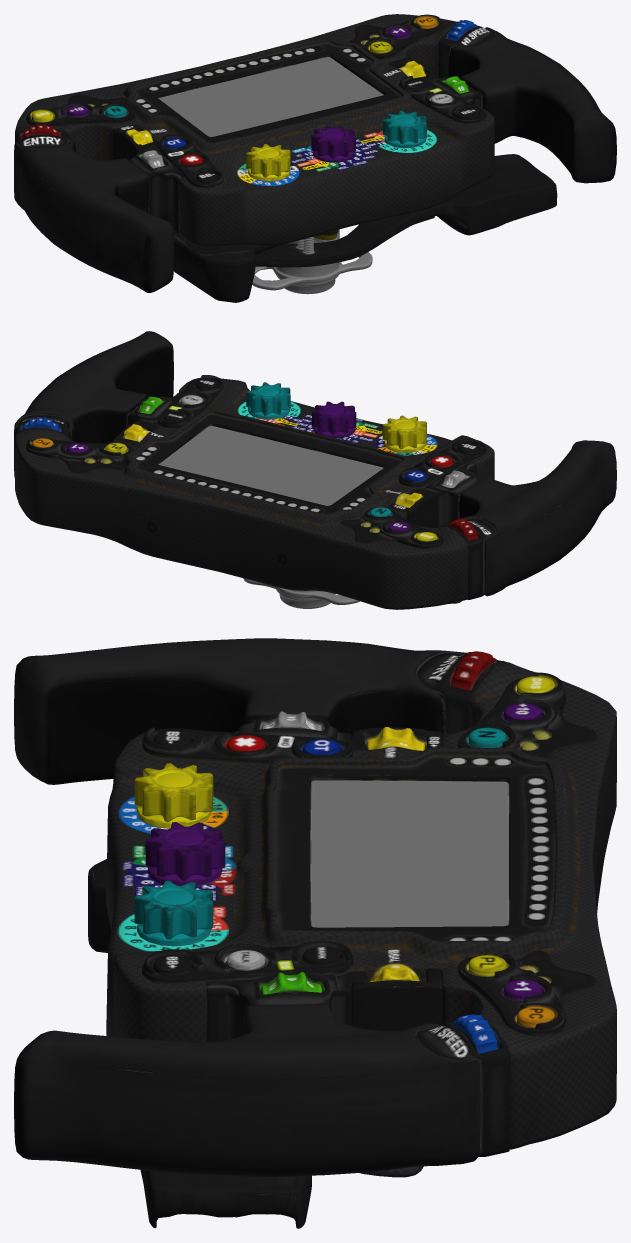
Rendered from f1_steering_wheel_w11.glb.
3 renders of one model, top to bottom at view 1: azimuth 30°, elevation 25°; view 2: azimuth 150°, elevation 25°; view 3: azimuth 270°, elevation 25°, orthographic. The views are drawn at different scales.
Parts seen in each view (by area): view 1: wheel_lp; view 2: wheel_lp; view 3: wheel_lp.
Part boxes in pixels (x1,y1,x2,y2): wheel_lp: (14, 14, 616, 302); wheel_lp: (14, 331, 616, 609); wheel_lp: (14, 638, 616, 1228).
Bounding box in the file's own units: 0.0299 × 0.00935 × 0.0171.
1 material, 1 textured.
